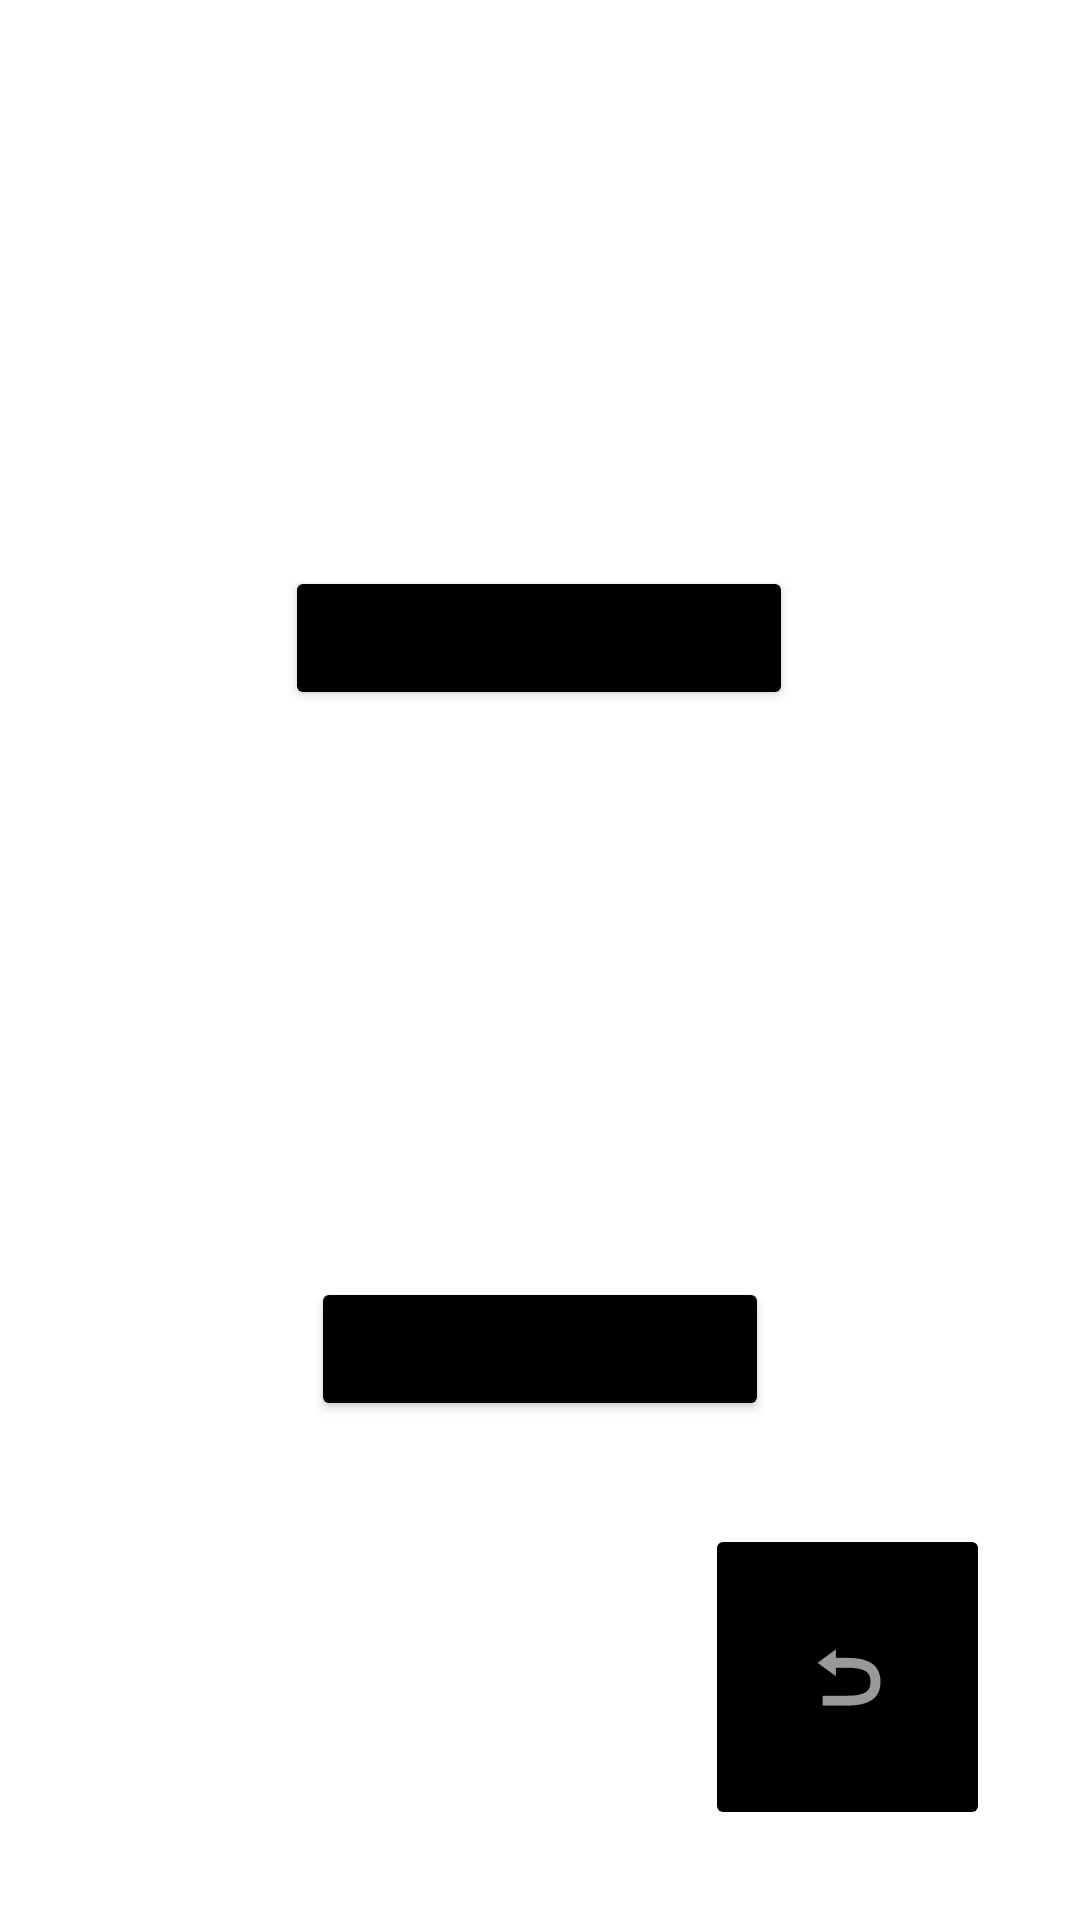

Icons on this 1080w x 1920h Android screen, each with its box as box(x1, y1, x2, y2):
backsaved: box(717, 1542, 978, 1812)
